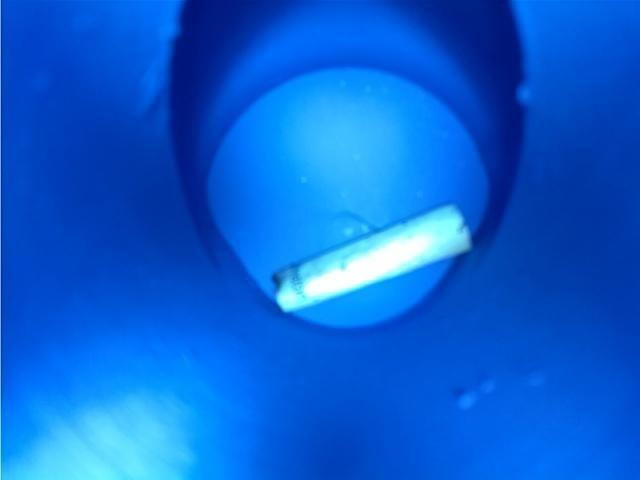megot: (267, 193, 478, 317)
